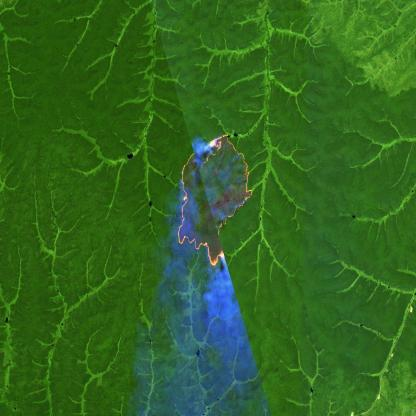fire: (177, 130, 254, 269)
